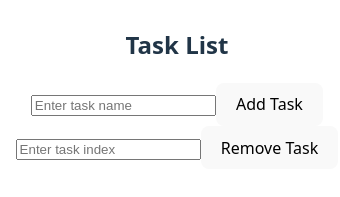
Scenario: Add task › should add a task and display it
The width and height of the screenshot is (340, 197).
Type "This is a test" into the field with test id "addTaskForm" at (123, 106), box [31,95,216,116]
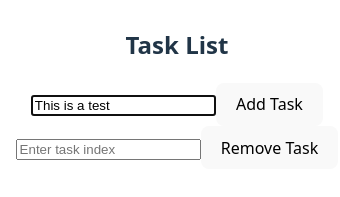
Click the button with test id "addTask" at (270, 104), box [216,83,323,126]
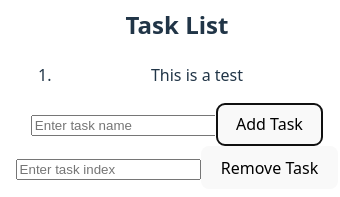
Check: the list item "This is a test" is shown, box [151,64,243,86]
